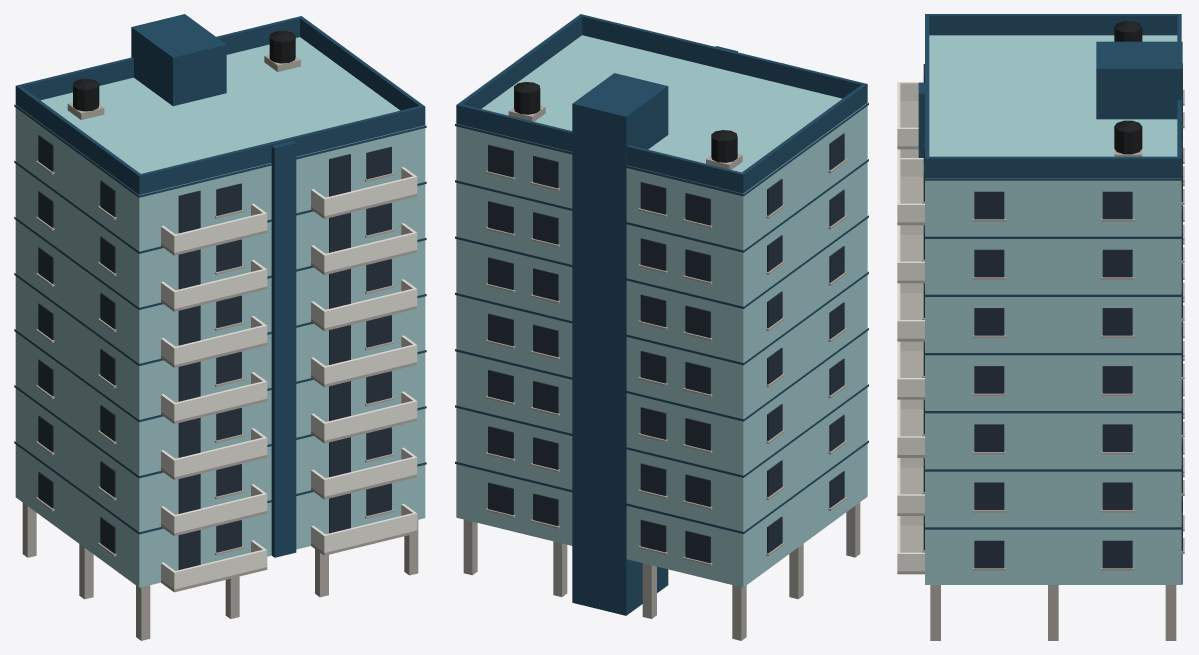
File: bld_apartment_02.glb
3 views of the same model, side by side, from view 1: azimuth 30°, elevation 25°; view 2: azimuth 150°, elevation 25°; view 3: azimuth 270°, elevation 25° (orthographic). The views are drawn at different scales.
Parts seen in each view (by area): view 1: bld_apartment_02; view 2: bld_apartment_02; view 3: bld_apartment_02.
Part boxes in pixels (x1,y1,x2,y2): bld_apartment_02: (14,14,426,640); bld_apartment_02: (455,14,868,640); bld_apartment_02: (897,14,1184,640).
Size of what is drawn, in the model's own units: 16.28 by 26.6 by 13.44.
